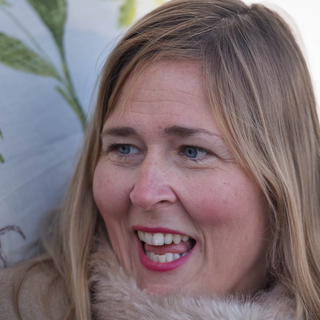eye: (171, 139, 219, 167), (101, 138, 146, 164)
